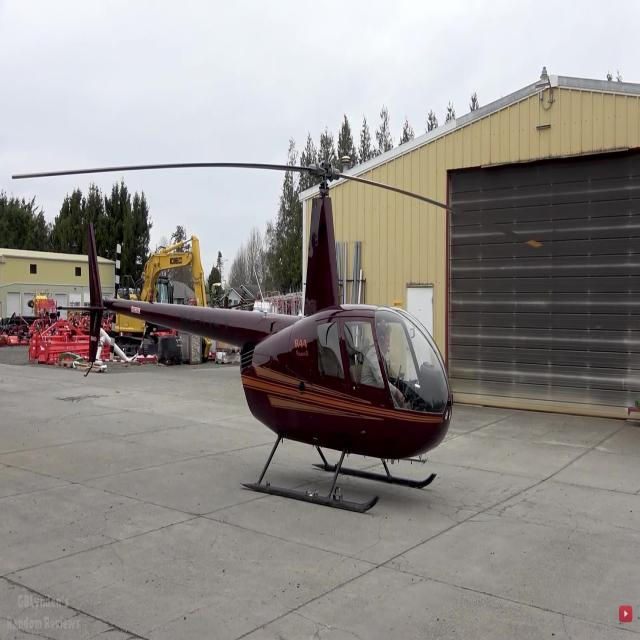CIV_HELO: (52, 157, 456, 517)
